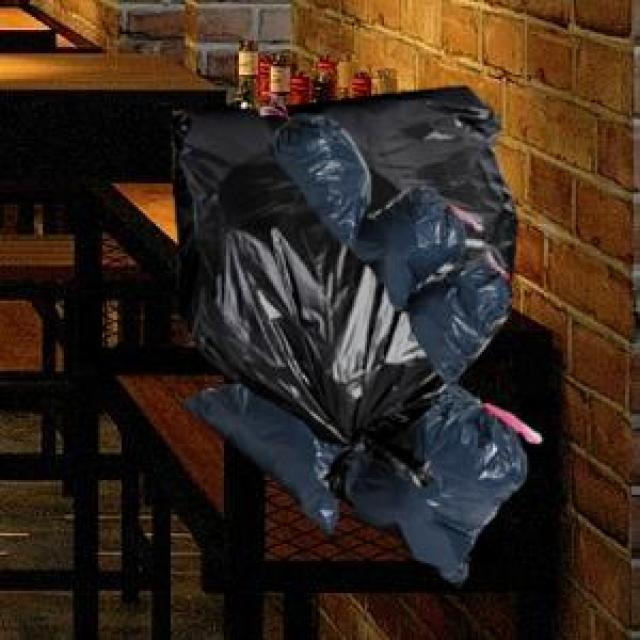Trashbag: (336, 380, 544, 590), (262, 110, 377, 253), (410, 266, 519, 388), (366, 190, 461, 288)
